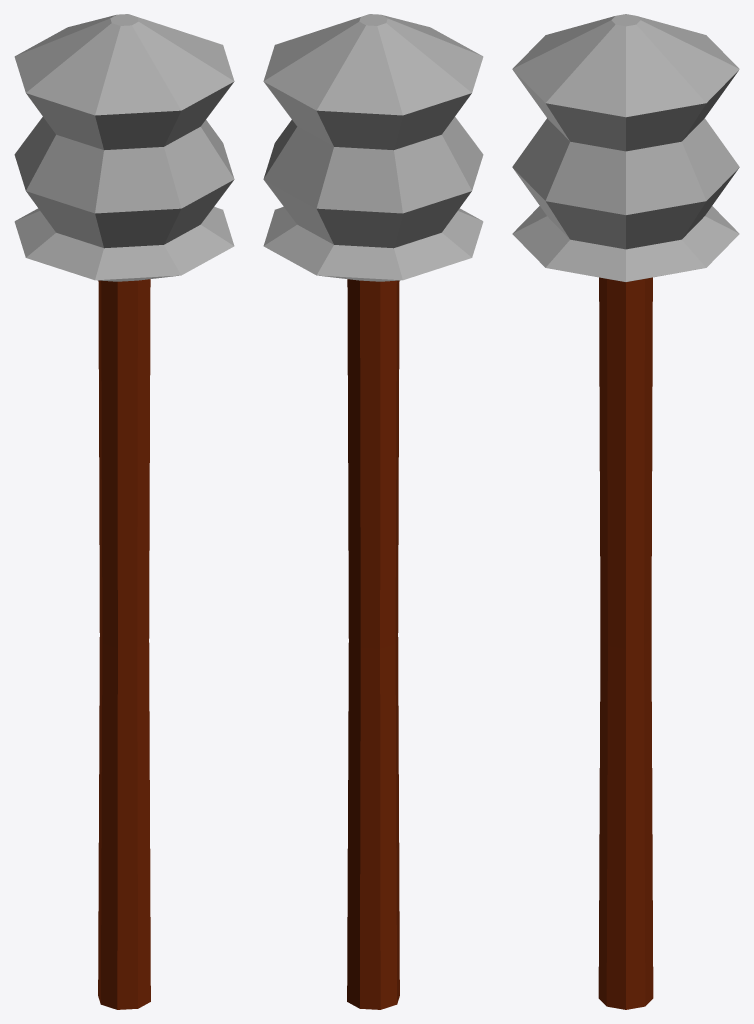
File: Mazo.fbx
The picture shows the model from 3 angles, left to right: view 1: azimuth 30°, elevation 25°; view 2: azimuth 150°, elevation 25°; view 3: azimuth 270°, elevation 25°; orthographic projection.
Visible parts, largest first — view 1: Mazo; view 2: Mazo; view 3: Mazo.
Boxes of the visible parts, box(x1,y1,x2,y2) form: Mazo: box(14, 14, 234, 1009); Mazo: box(263, 14, 483, 1009); Mazo: box(512, 14, 739, 1009).
Bounding box in the file's own units: 13.58 × 64.38 × 13.58.
